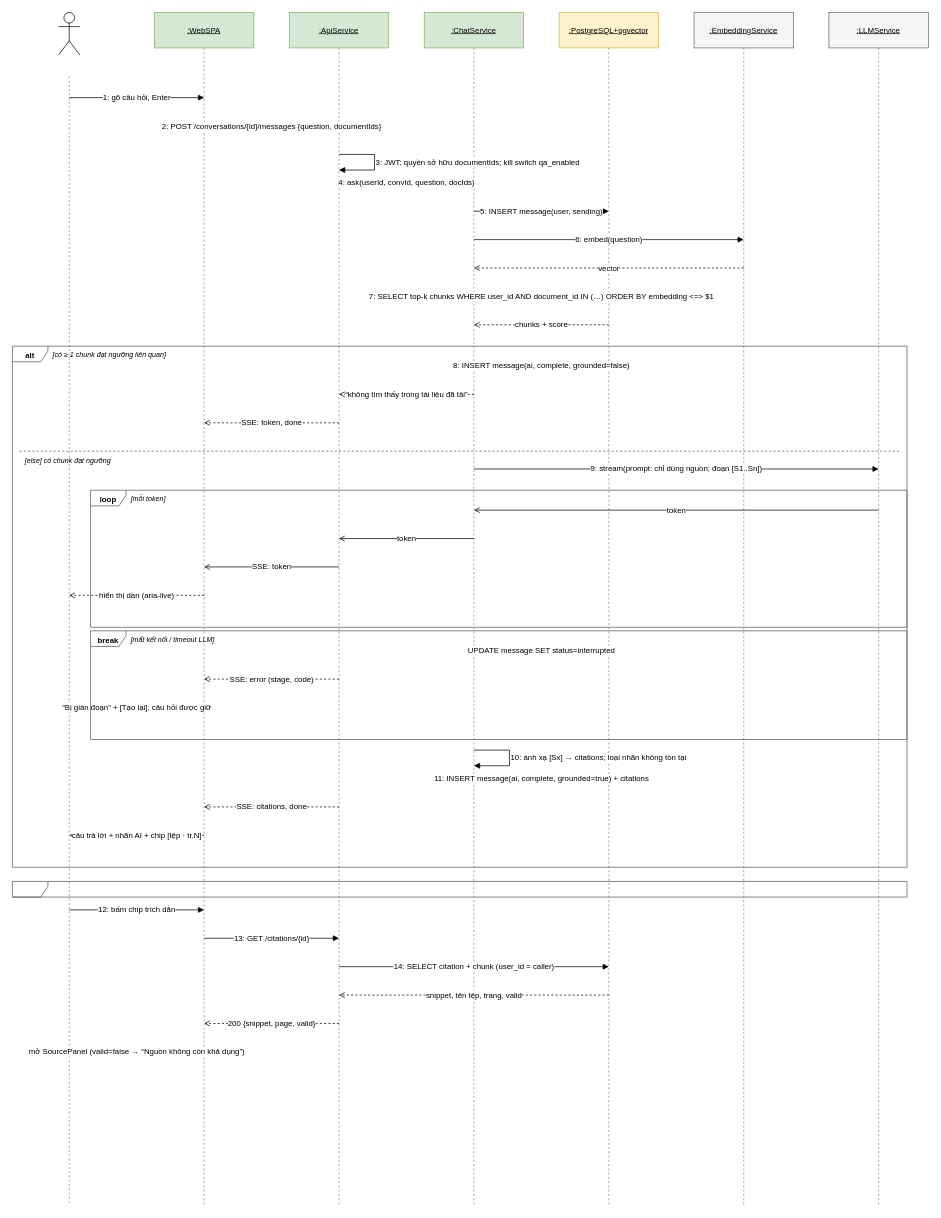
Some shapes in this 941 by 1218 pixel diagram are drawn without their labels. The centre of each missing label's shape, as x and y in pixels:
"Lan (BD)" belongs at [69,33].
"ref: Xem nguồn dẫn" belongs at [459,889].
